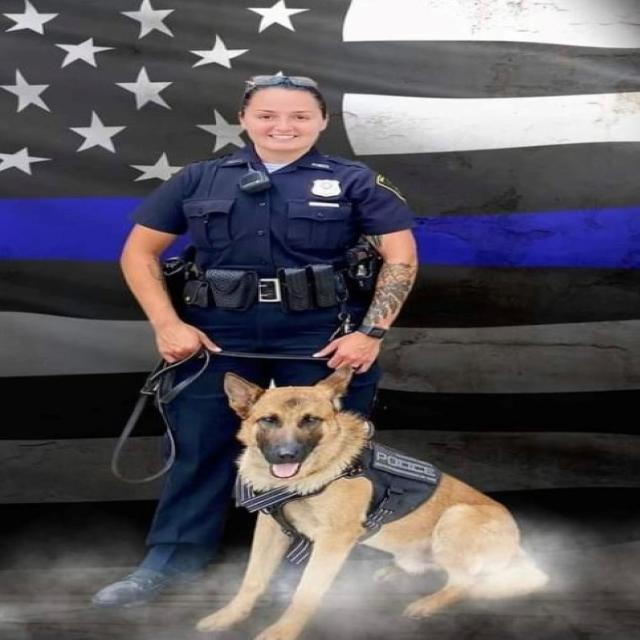police: (91, 54, 394, 584)
